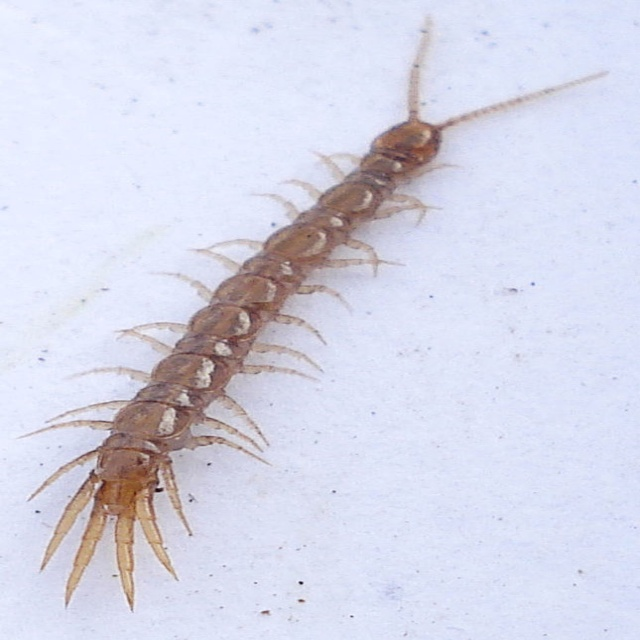Centipede: (10, 19, 606, 611)
